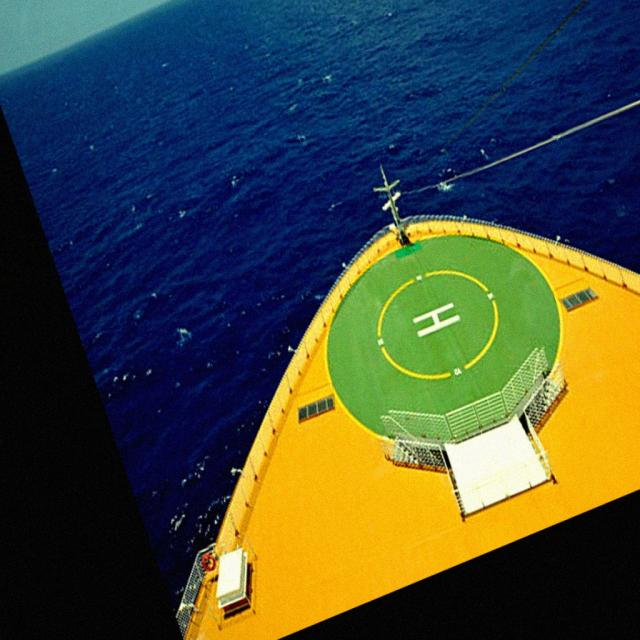helipad: (373, 268, 500, 382)
